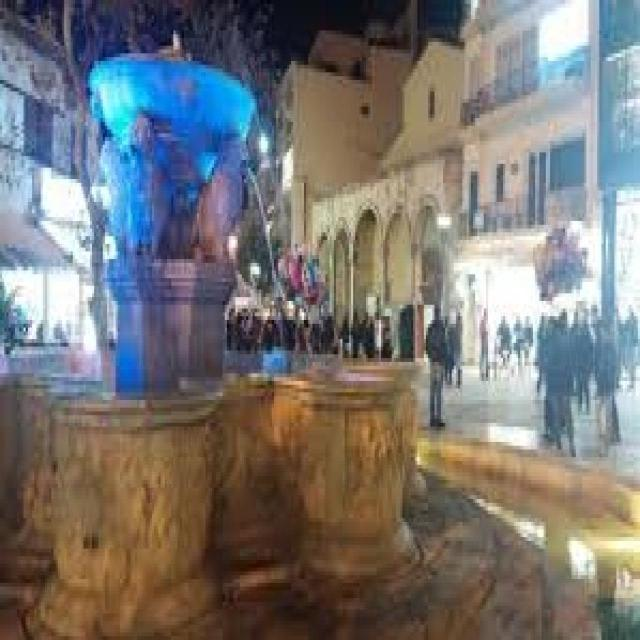Liontaria: (5, 62, 420, 621)
